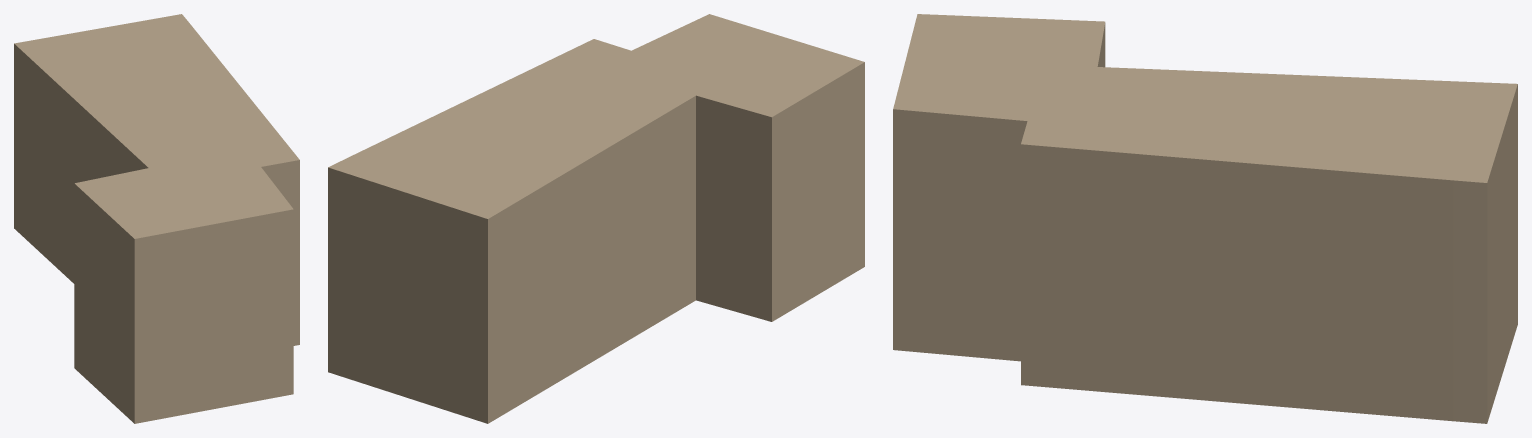
File: bld_98768016.dae
3 views of the same model, side by side, from view 1: azimuth 30°, elevation 25°; view 2: azimuth 150°, elevation 25°; view 3: azimuth 270°, elevation 25° (orthographic). The views are drawn at different scales.
Visible parts, largest first — view 1: D'Lux; view 2: D'Lux; view 3: D'Lux.
Boxes of the visible parts, x1,y1,x2,y2 form: D'Lux: [14, 14, 299, 423]; D'Lux: [328, 14, 864, 423]; D'Lux: [893, 14, 1517, 423].
Size of the model in its own units: 12.05 by 18.8 by 8.
